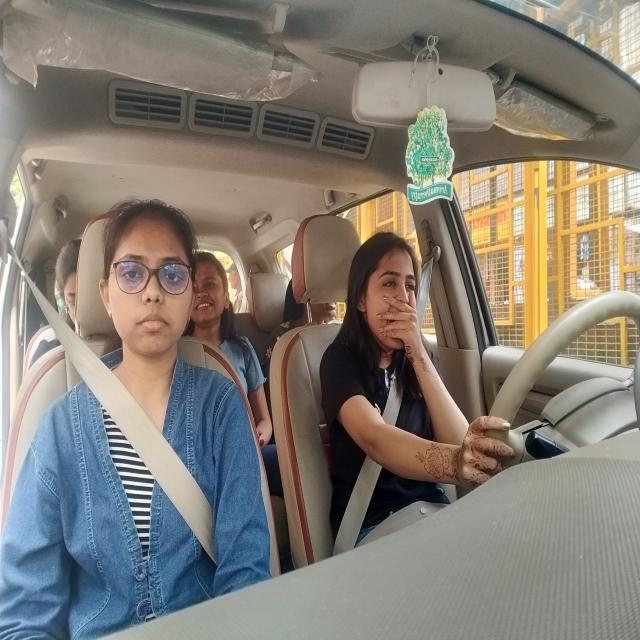drowsy: (352, 240, 428, 351)
person: (110, 196, 198, 351), (51, 233, 84, 339), (193, 252, 231, 328), (284, 290, 343, 324)
